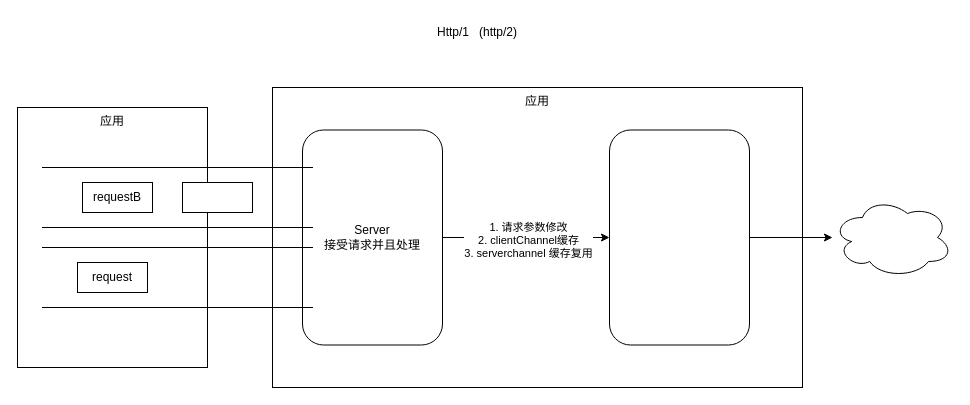
Some shapes in this 970 by 405 pixel diagram are drawn without their labels. The centre of each missing label's shape, as x and y in pixels:
"Client 将处理好的请求重新转发正确的目的地" belongs at (x=679, y=237).
"requestA" belongs at (x=217, y=197).
